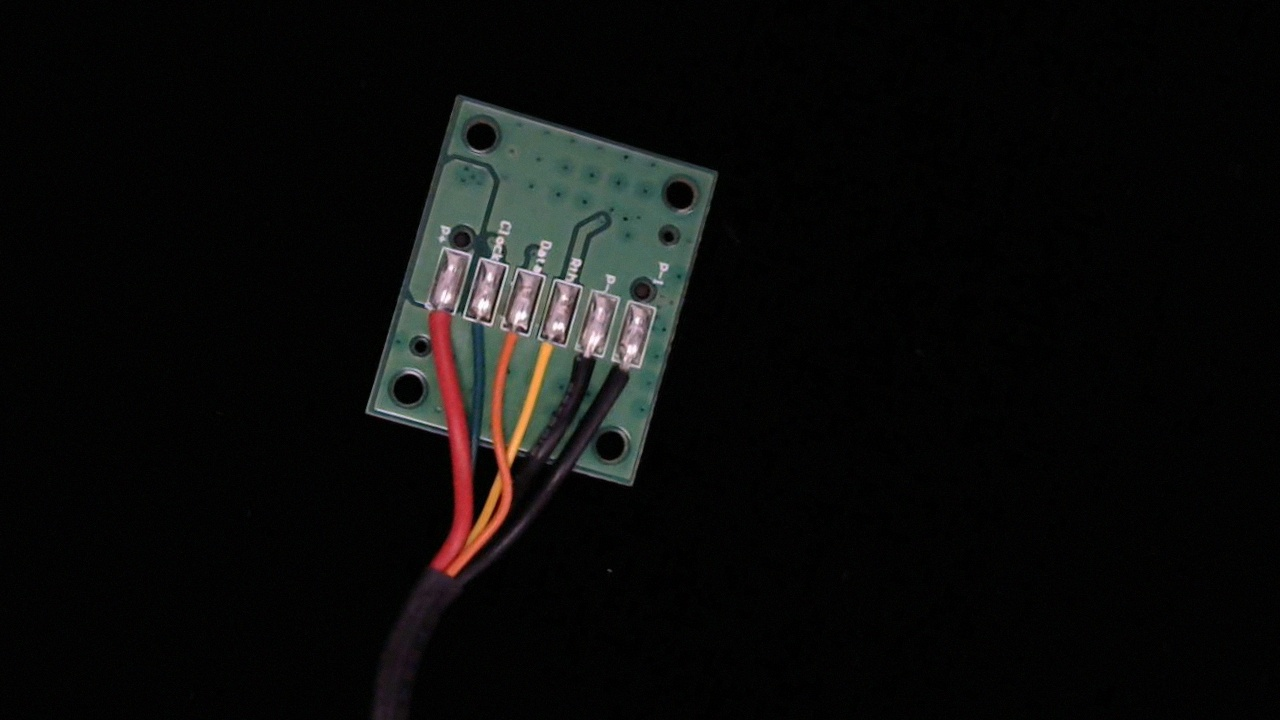Black: (556, 335, 610, 415)
Black1: (599, 342, 651, 416)
Green: (447, 299, 501, 373)
Orange: (482, 313, 535, 392)
Red: (409, 291, 463, 368)
Yellow: (521, 321, 576, 402)
